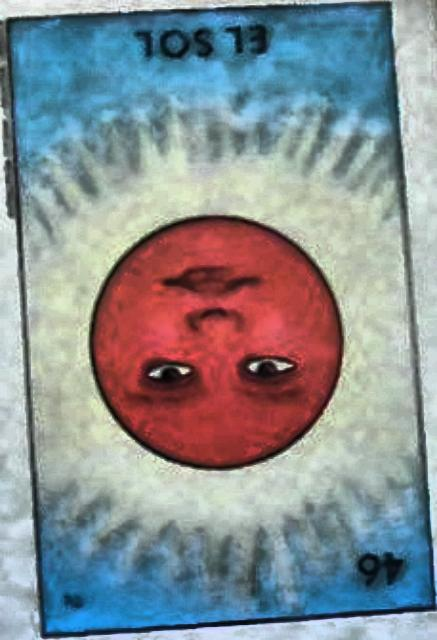El Sol: (8, 7, 436, 633)
